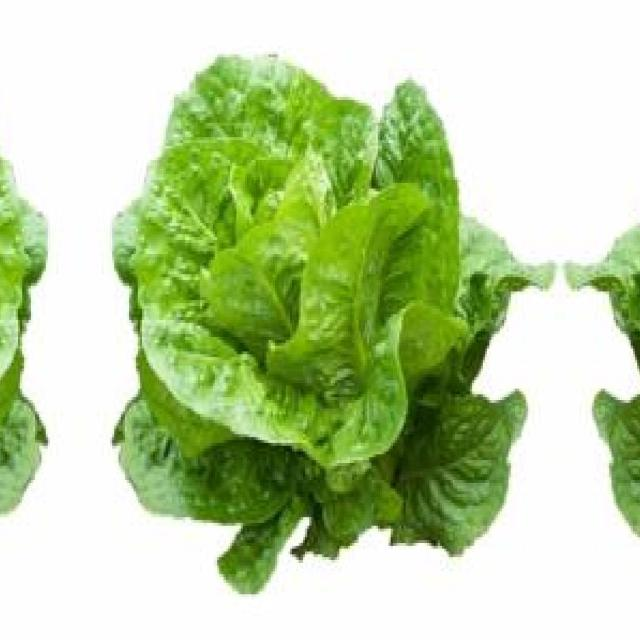healthy: (114, 51, 550, 562), (569, 51, 640, 562), (0, 51, 46, 562)
